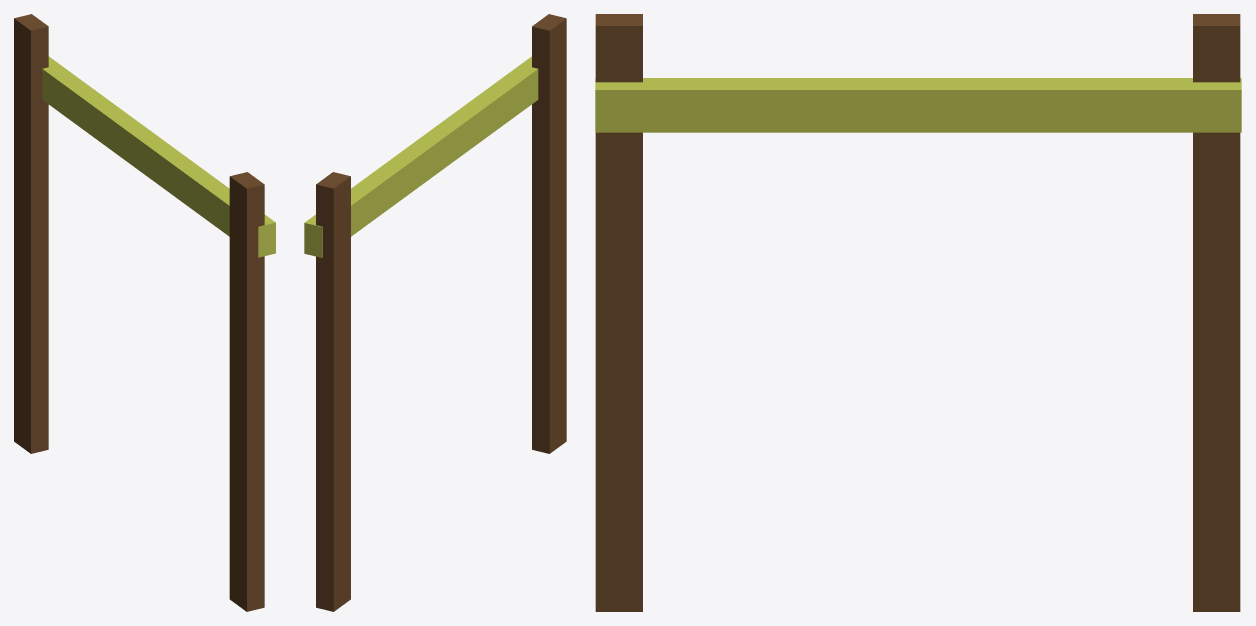
Rendered from Barrier 1.fbx.
3 renders of one model, left to right at view 1: azimuth 30°, elevation 25°; view 2: azimuth 150°, elevation 25°; view 3: azimuth 270°, elevation 25°, orthographic. The views are drawn at different scales.
Visible parts, largest first — view 1: Cube, Cube.001, Cube.002; view 2: Cube.001, Cube, Cube.002; view 3: Cube.002, Cube, Cube.001.
Boxes of the visible parts, x1,y1,x2,y2 form: Cube: (229,172,264,611); Cube.001: (14,14,48,453); Cube.002: (42,56,275,257); Cube.001: (316,172,350,611); Cube: (532,14,566,453); Cube.002: (304,56,538,257); Cube.002: (595,78,1241,132); Cube: (595,14,642,611); Cube.001: (1193,14,1240,611).
Bounding box in the file's own units: 13.21 × 185 × 185.
